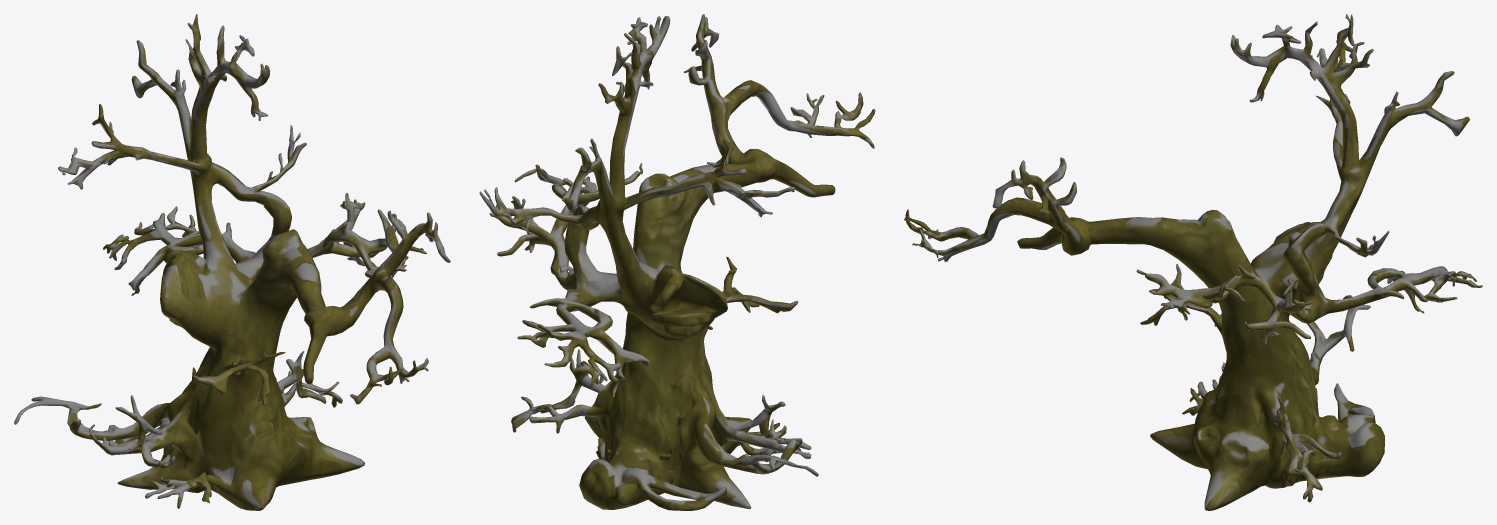
File: arbolseco.glb
The picture shows the model from 3 angles, left to right: view 1: azimuth 30°, elevation 25°; view 2: azimuth 150°, elevation 25°; view 3: azimuth 270°, elevation 25°; orthographic projection. The views are drawn at different scales.
Visible parts, largest first — view 1: tripo_node_a2c00b80-557d-4962-9bea-c83de394937c; view 2: tripo_node_a2c00b80-557d-4962-9bea-c83de394937c; view 3: tripo_node_a2c00b80-557d-4962-9bea-c83de394937c.
Part boxes in pixels (x1,y1,x2,y2): tripo_node_a2c00b80-557d-4962-9bea-c83de394937c: (14, 14, 450, 510); tripo_node_a2c00b80-557d-4962-9bea-c83de394937c: (479, 14, 875, 510); tripo_node_a2c00b80-557d-4962-9bea-c83de394937c: (904, 14, 1482, 510).
Bounding box in the file's own units: 0.7001 × 0.8814 × 0.9995.
Materials: 1 (1 with a texture image).
